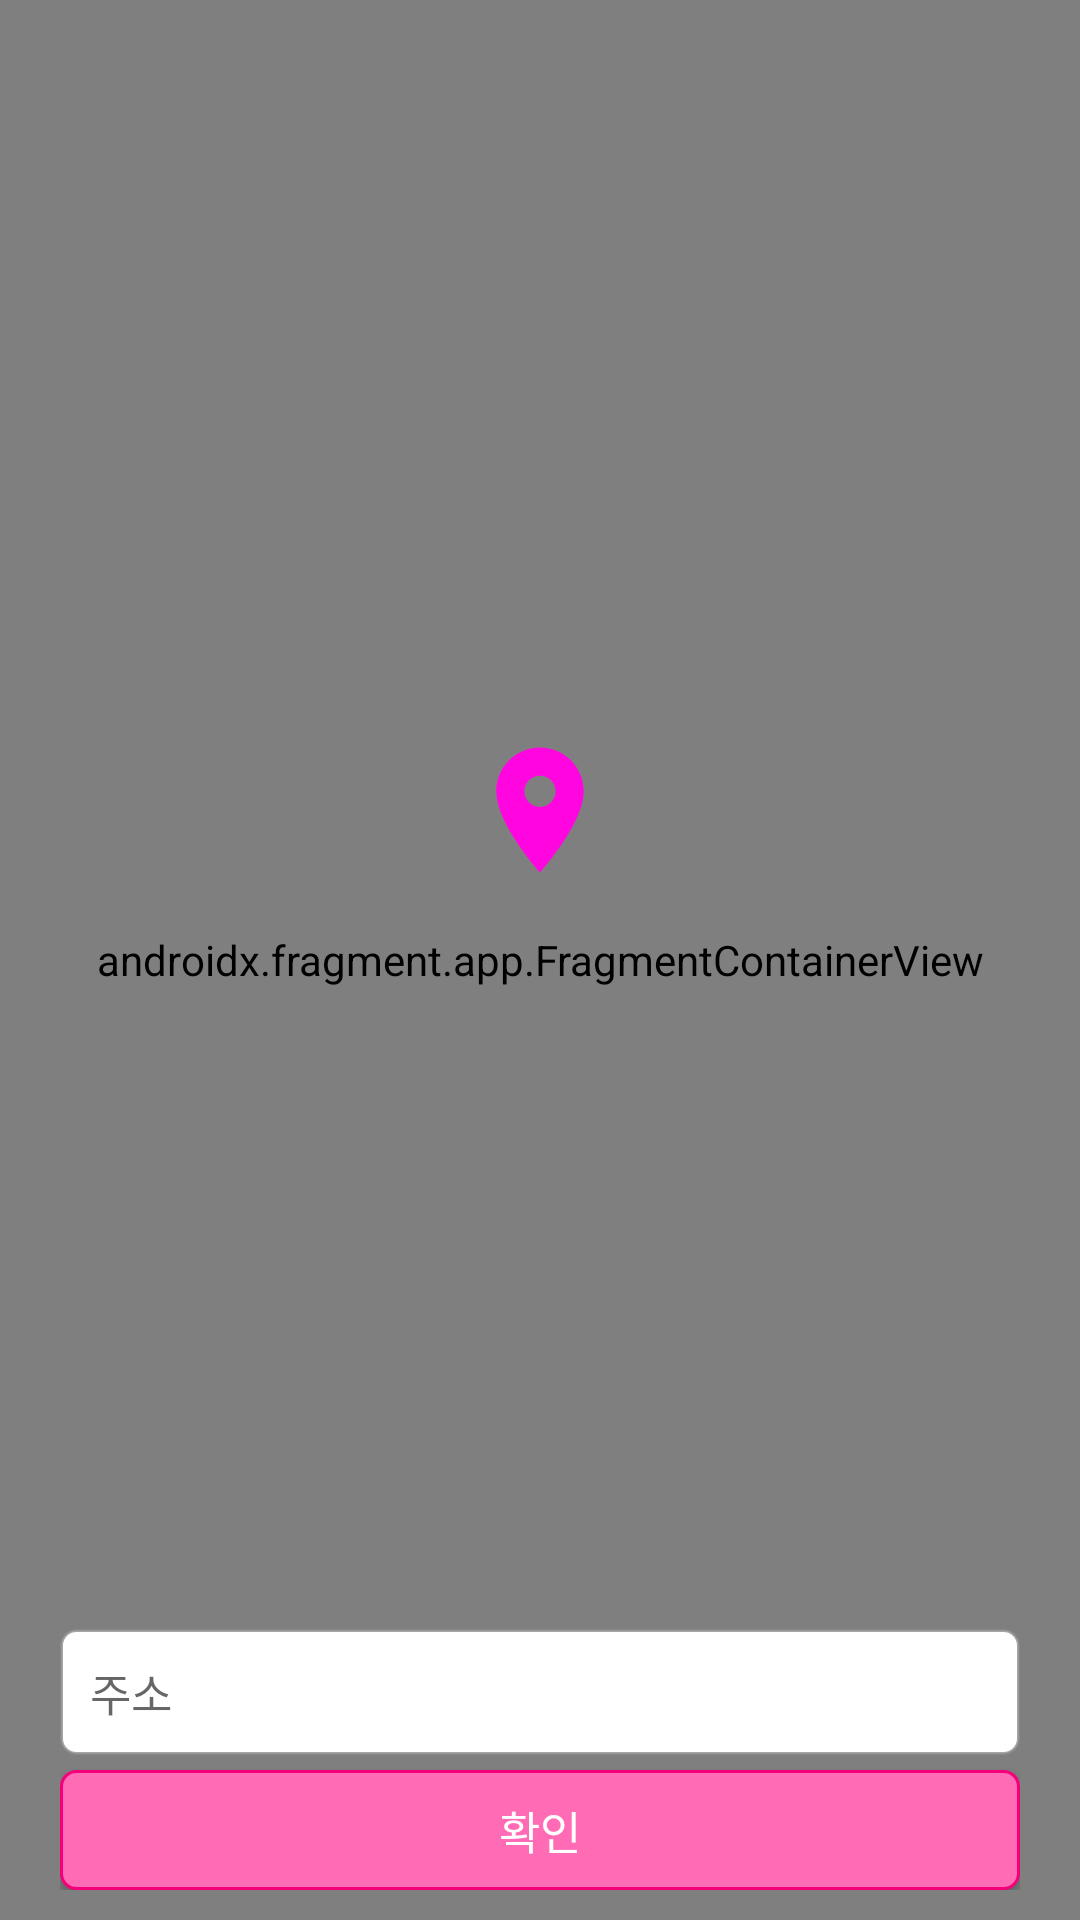

Icons on this 1080 × 1920 Android screen, each with the point to tap as (x=x, y=y):
location: (x=540, y=809)
